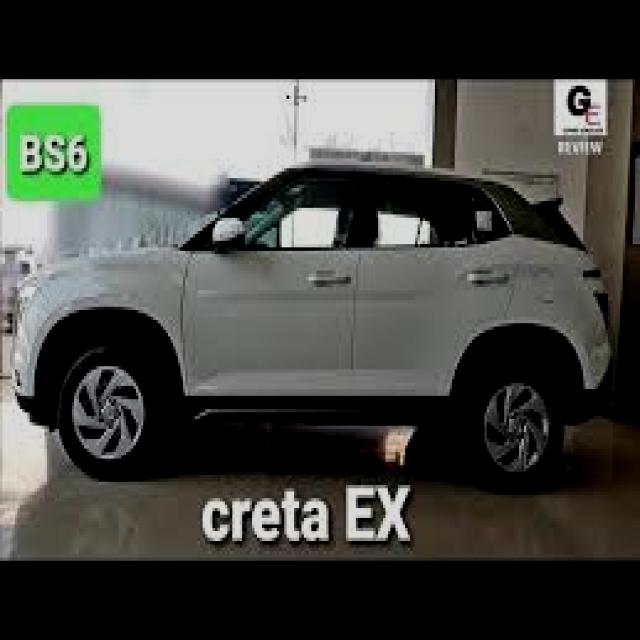SUV: (6, 155, 614, 481)
